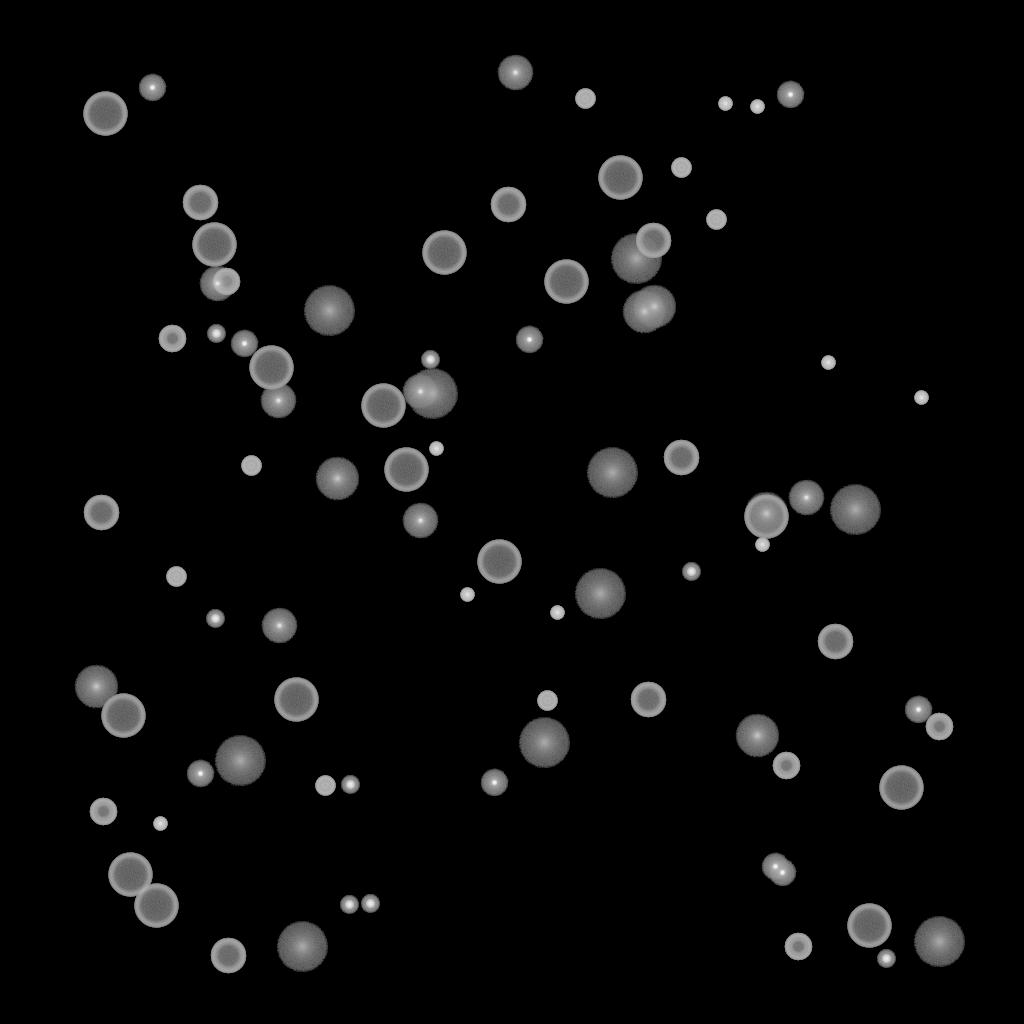depth:-10: (904, 696, 932, 724), (138, 74, 166, 102), (761, 853, 789, 881), (480, 769, 508, 797), (776, 81, 804, 109), (768, 859, 796, 887), (515, 326, 543, 354), (186, 760, 214, 788), (230, 330, 258, 358)
depth:-20: (207, 325, 225, 343), (682, 563, 700, 581), (340, 896, 358, 914), (361, 895, 379, 913), (877, 950, 895, 968), (421, 351, 439, 369), (341, 776, 359, 794), (206, 610, 224, 628)
depth:-30: (821, 356, 835, 370), (550, 606, 564, 620), (718, 97, 732, 111), (153, 817, 167, 831), (755, 538, 769, 552), (460, 588, 474, 602), (429, 442, 443, 456), (750, 100, 764, 114), (914, 391, 928, 405)
depth:-40: (706, 210, 726, 230), (537, 691, 557, 711), (166, 567, 186, 587), (575, 89, 595, 109), (241, 456, 261, 476), (671, 158, 691, 178), (315, 776, 335, 796)
depth:-50: (925, 713, 953, 741), (772, 752, 800, 780), (212, 268, 240, 296), (158, 325, 186, 353), (784, 933, 812, 961), (89, 798, 117, 826)
depth:-60: (630, 682, 666, 718), (182, 185, 218, 221), (817, 624, 853, 660), (83, 495, 119, 531), (210, 938, 246, 974), (490, 187, 526, 223), (635, 223, 671, 259), (663, 440, 699, 476)
depth:-70: (83, 92, 127, 136), (249, 346, 293, 390), (744, 495, 788, 539), (544, 260, 588, 304), (101, 694, 145, 738), (384, 448, 428, 492), (879, 766, 923, 810), (134, 884, 178, 928), (598, 156, 642, 200), (274, 678, 318, 722), (422, 231, 466, 275), (847, 904, 891, 948), (192, 223, 236, 267), (477, 540, 521, 584), (361, 384, 405, 428), (108, 853, 152, 897)
depth:0: (199, 266, 235, 302), (402, 503, 438, 539), (261, 608, 297, 644), (788, 480, 824, 516), (402, 374, 438, 410), (260, 383, 296, 419), (497, 55, 533, 91)
depth:10: (74, 665, 118, 709), (622, 290, 666, 334), (632, 285, 676, 329), (735, 714, 779, 758), (744, 492, 788, 536), (315, 457, 359, 501)
depth:20: (303, 286, 355, 336), (574, 569, 626, 619), (406, 369, 458, 419), (214, 736, 266, 786), (610, 234, 662, 284), (913, 917, 965, 967), (276, 922, 328, 972), (586, 448, 638, 498), (829, 485, 881, 535), (518, 718, 570, 768)
